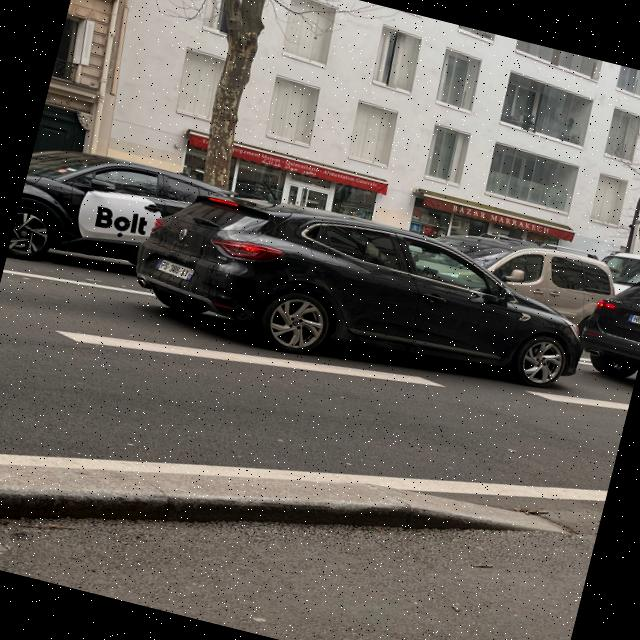Autre: (152, 252, 199, 284), (626, 309, 640, 328)
